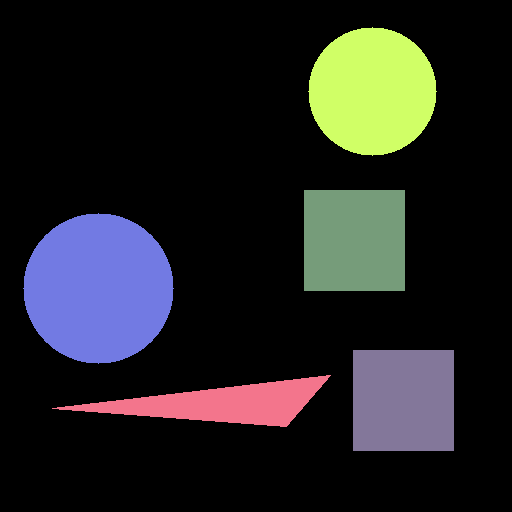circle: (23, 213, 173, 363), (308, 27, 436, 155)
square: (353, 350, 453, 450), (304, 190, 404, 290)
triangle: (52, 375, 330, 426)
